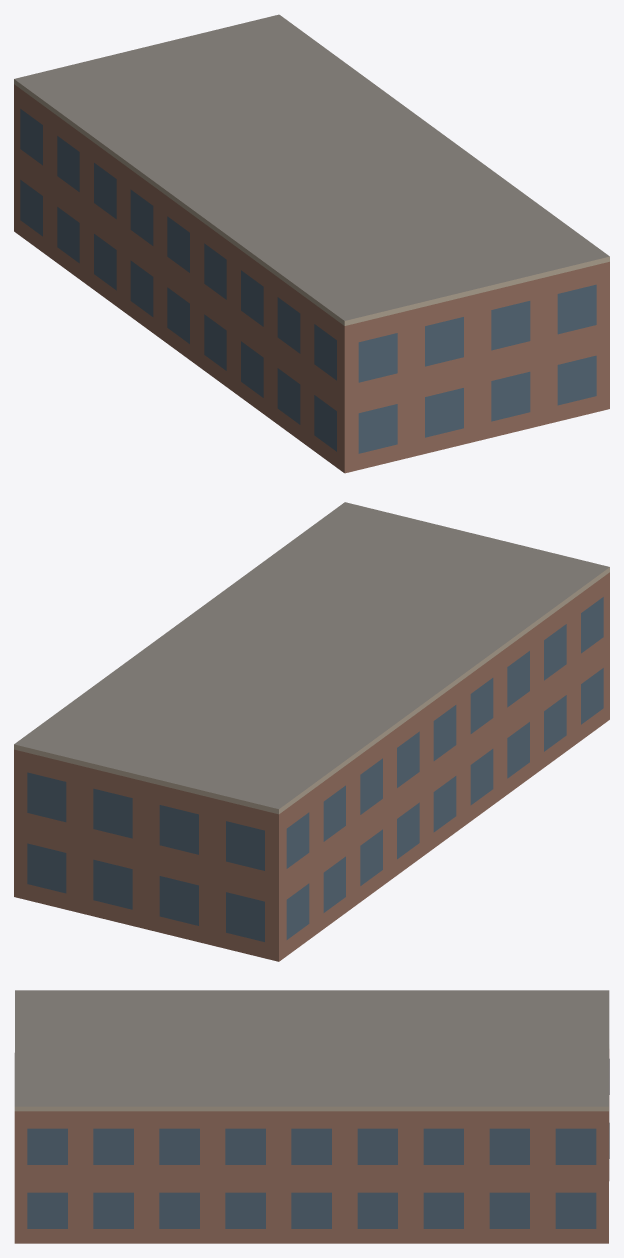
Rendered from dc-au-watkins-building.glb.
3 renders of one model, top to bottom at view 1: azimuth 30°, elevation 25°; view 2: azimuth 150°, elevation 25°; view 3: azimuth 270°, elevation 25°, orthographic. The views are drawn at different scales.
Visible parts, largest first — view 1: Watkins Building; view 2: Watkins Building; view 3: Watkins Building.
Part boxes in pixels (x1,y1,x2,y2): Watkins Building: (14, 14, 609, 473); Watkins Building: (14, 502, 609, 961); Watkins Building: (14, 990, 609, 1243).
Bounding box in the file's own units: 17.36 × 9.5 × 37.45.
